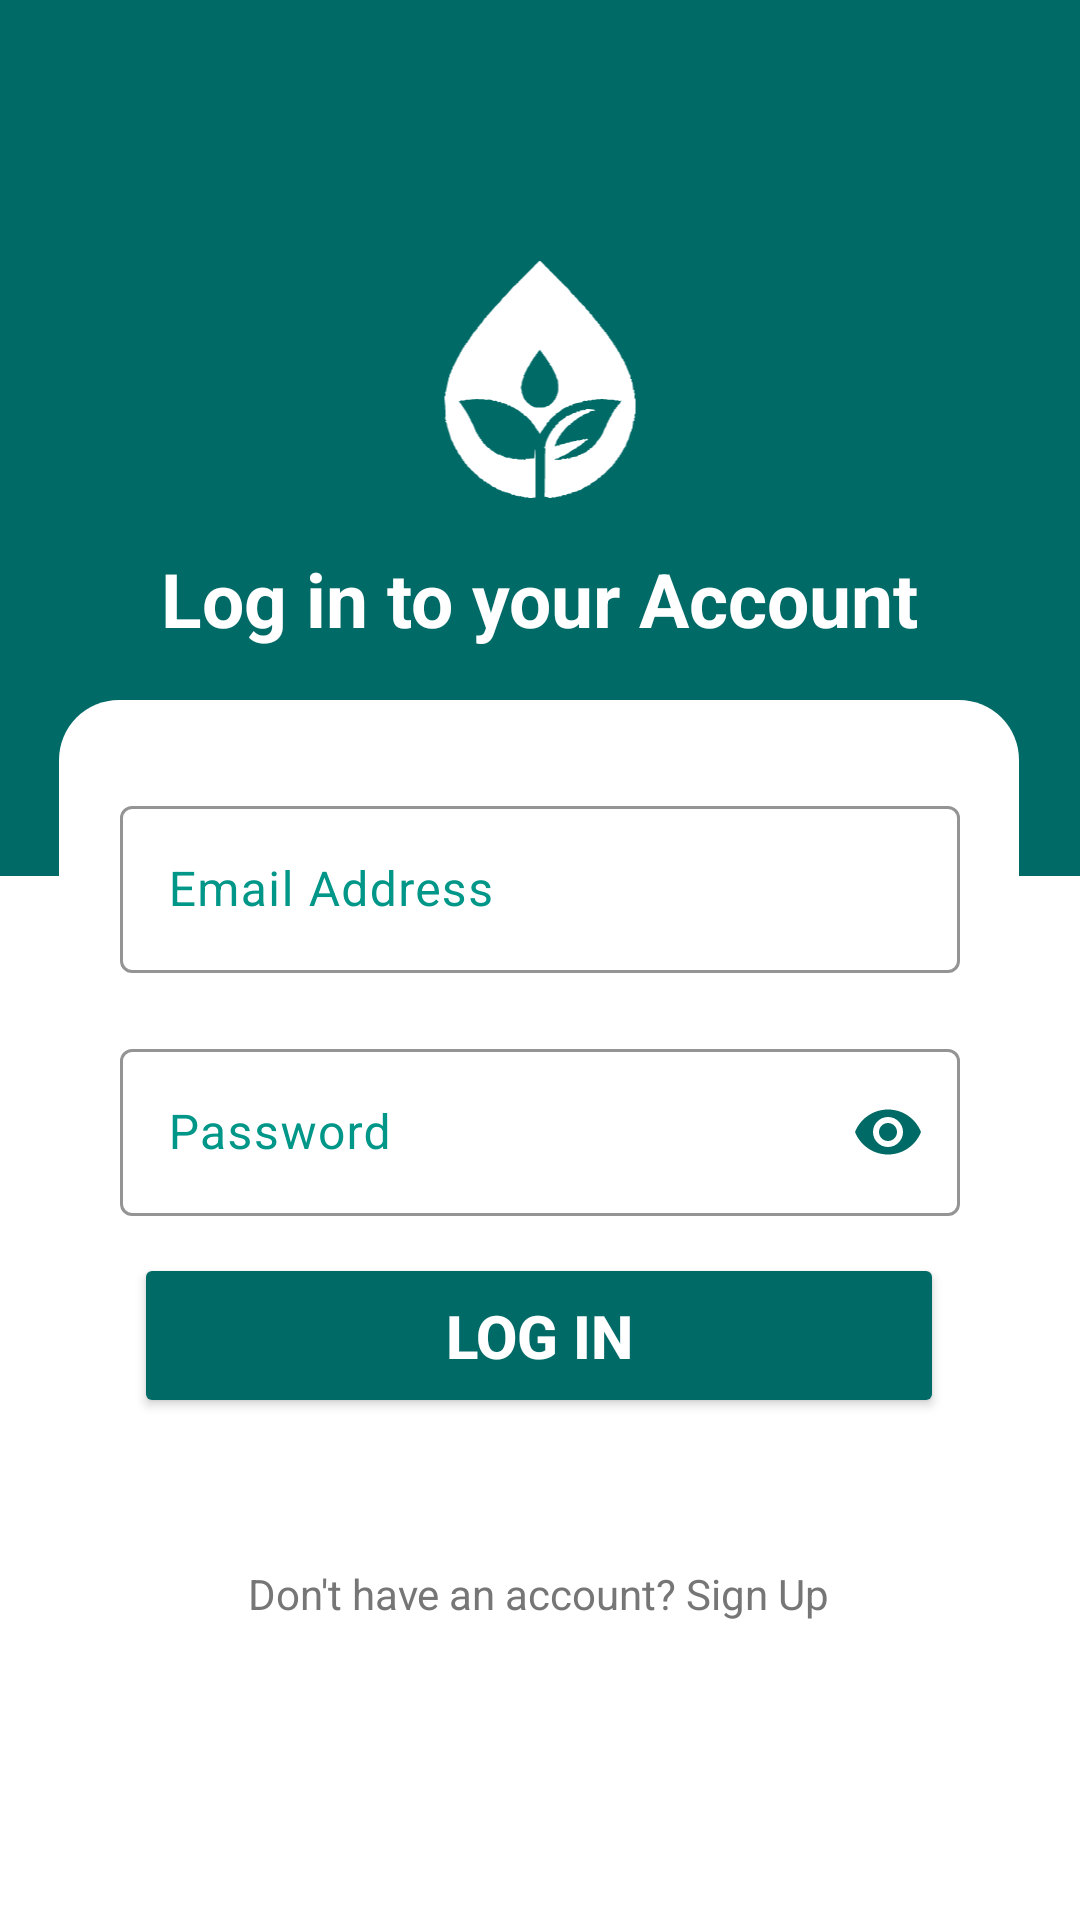

Icon click points for this 1080x1920 phone screenshot, format point (x, y):
App Icon: point (540, 379)
